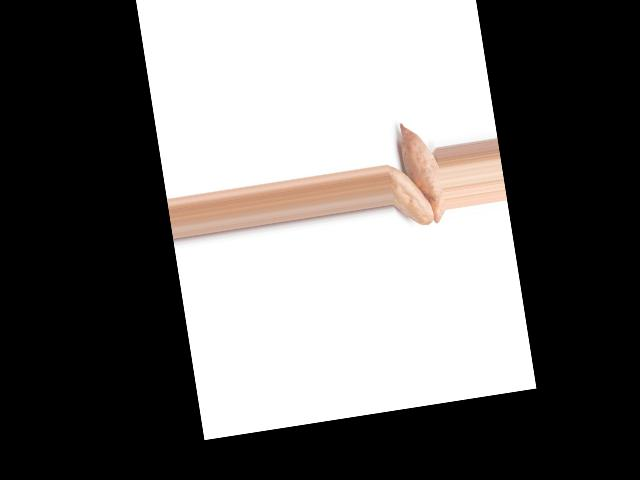sweet_potato: (386, 155, 434, 229)
